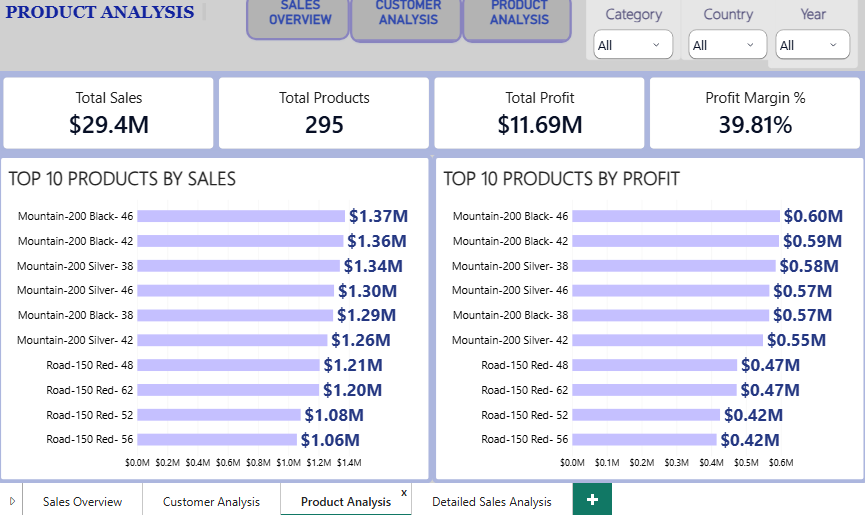

Layout of this report page (visuals, bound fields, positions):
{"tool":"powerbi","page":{"name":"Product Analysis","canvas":[1920,1080],"ordinal":2},"visuals":[{"type":"textbox","box":[0,22,460.7,55.1],"z":0},{"type":"cardVisual","fields":{"Data":["MeasuesTable.Total Sales","MeasuesTable.Total Products","MeasuesTable.Total Profit","MeasuesTable.Profit Margin %"]},"box":[0,171.9,1919.8,185.1],"z":1000},{"type":"listSlicer","fields":{"Values":["DimDate.Year"]},"box":[1699.3,6.6,198.4,158.7],"z":2000},{"type":"listSlicer","fields":{"Values":["DimCustomers.Country"]},"box":[1507.6,6.6,207.2,141.1],"z":3000},{"type":"listSlicer","fields":{"Values":["DimProducts.Category"]},"box":[1298.2,6.6,209.4,141.1],"z":4000},{"type":"actionButton","title":"SALES OVERVIEW","box":[548.8,0,229.2,103.6],"z":5000},{"type":"actionButton","title":"CUSTOMER ANALYSIS","box":[778,0,246.9,110.2],"z":6000},{"type":"actionButton","title":"PRODUCT ANALYSIS","box":[1024.9,0,242.4,110.2],"z":7000},{"type":"barChart","title":"TOP 10 PRODUCTS BY SALES","fields":{"Category":["DimProducts.Product Name"],"Y":["MeasuesTable.Total Sales"]},"box":[0,355.3,960,725.7],"z":7001},{"type":"barChart","title":"TOP 10 PRODUCTS BY  PROFIT","fields":{"Category":["DimProducts.Product Name"],"Y":["MeasuesTable.Total Profit"]},"box":[958.8,354.9,960,725.7],"z":7002}]}

Visuals, with their boxes on the page's 1920x1080 design canvas (x1, y1, x2, y2). These are canvas units, not pixel positions in the 865x515 screenshot, which may show the page scaled, cropped or inside an application window:
textbox: {"left": 0, "top": 22, "right": 461, "bottom": 77}
cardVisual - MeasuesTable.Total Sales x MeasuesTable.Total Products: {"left": 0, "top": 172, "right": 1920, "bottom": 357}
listSlicer - DimDate.Year: {"left": 1699, "top": 7, "right": 1898, "bottom": 165}
listSlicer - DimCustomers.Country: {"left": 1508, "top": 7, "right": 1715, "bottom": 148}
listSlicer - DimProducts.Category: {"left": 1298, "top": 7, "right": 1508, "bottom": 148}
"SALES OVERVIEW" actionButton: {"left": 549, "top": 0, "right": 778, "bottom": 104}
"CUSTOMER ANALYSIS" actionButton: {"left": 778, "top": 0, "right": 1025, "bottom": 110}
"PRODUCT ANALYSIS" actionButton: {"left": 1025, "top": 0, "right": 1267, "bottom": 110}
"TOP 10 PRODUCTS BY SALES" barChart: {"left": 0, "top": 355, "right": 960, "bottom": 1081}
"TOP 10 PRODUCTS BY  PROFIT" barChart: {"left": 959, "top": 355, "right": 1919, "bottom": 1081}
